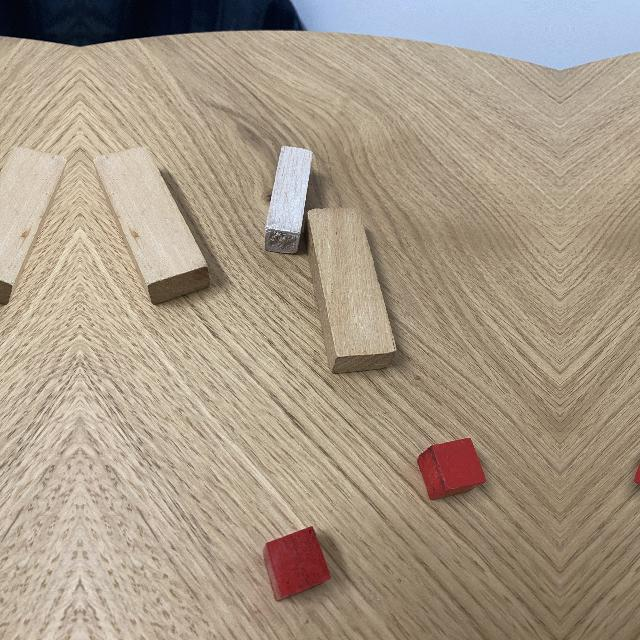block: (264, 145, 314, 254)
jenga: (93, 146, 211, 306), (303, 208, 398, 374), (0, 146, 67, 306)
red cube: (261, 525, 331, 599), (416, 436, 487, 499)
